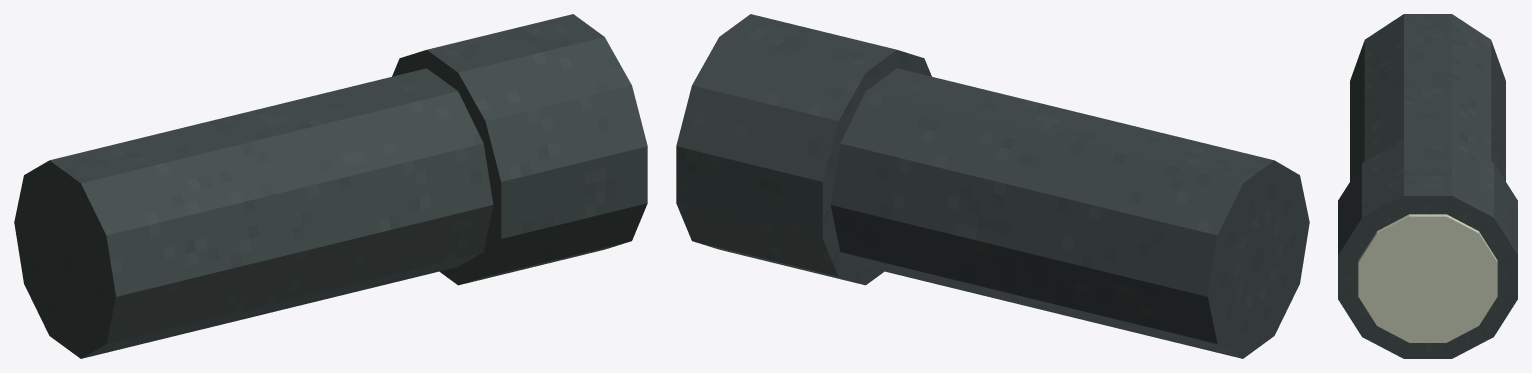
The model's file is heavy_flashlight.glb.
3 renders of one model, left to right at view 1: azimuth 30°, elevation 25°; view 2: azimuth 150°, elevation 25°; view 3: azimuth 270°, elevation 25°, orthographic. The views are drawn at different scales.
Parts seen in each view (by area): view 1: block_main barrel, block_larger head; view 2: block_main barrel, block_larger head; view 3: block_larger head, block_main barrel, block_lamp lens.
Boxes of the visible parts, x1,y1,x2,y2 form: block_main barrel: (14,68,493,358); block_larger head: (392,14,647,285); block_main barrel: (830,68,1309,358); block_larger head: (676,14,931,285); block_larger head: (1338,141,1517,358); block_main barrel: (1350,14,1505,181); block_lamp lens: (1358,214,1497,342).
Bounding box in the file's own units: 0.16 × 0.0613 × 0.0613.
Materials: 1 (1 with a texture image).
